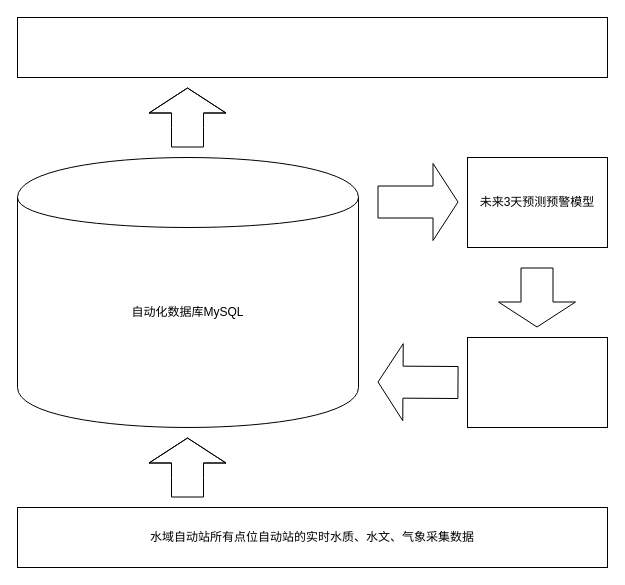
This 625x585 diagram has some shape labels left out. Each missing label, with the centre of its shape:
GIS平台Arcgis: [537,382]
WEB展示平台: [312,47]
